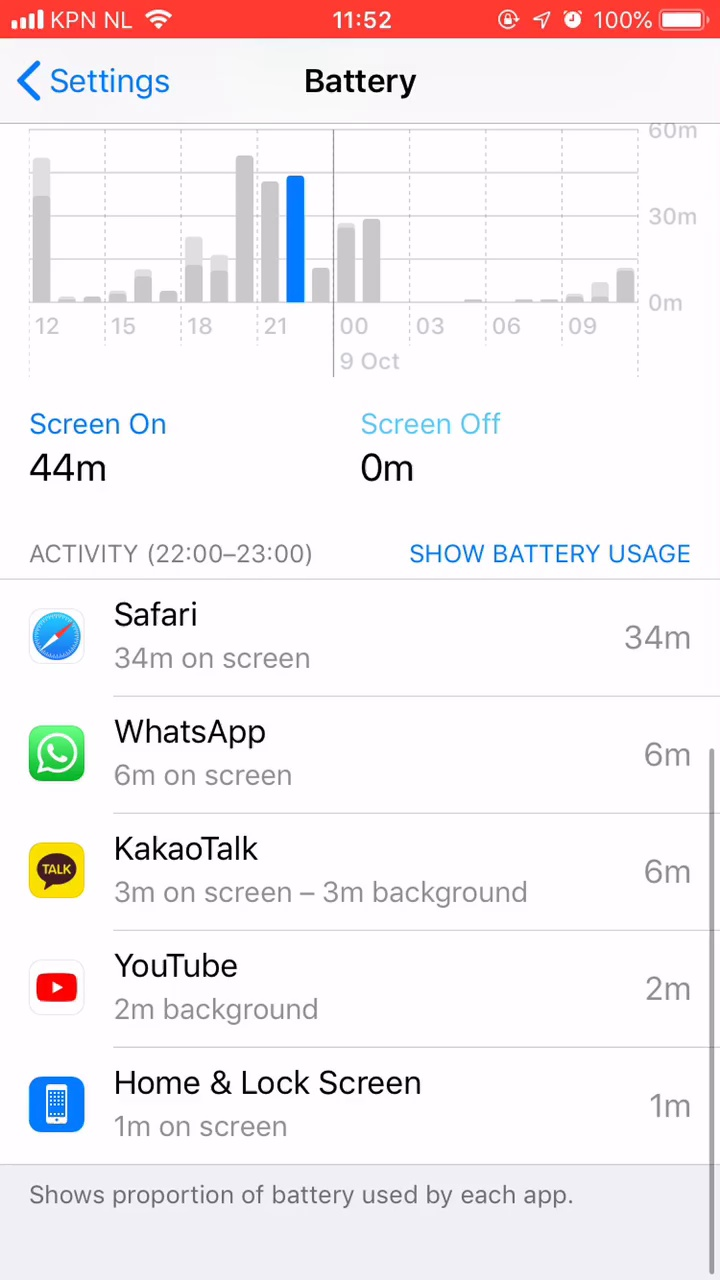activity: (19, 527, 358, 573)
app: (28, 598, 709, 680), (23, 713, 704, 795), (21, 823, 702, 905), (21, 947, 702, 1029), (17, 1064, 698, 1146)
